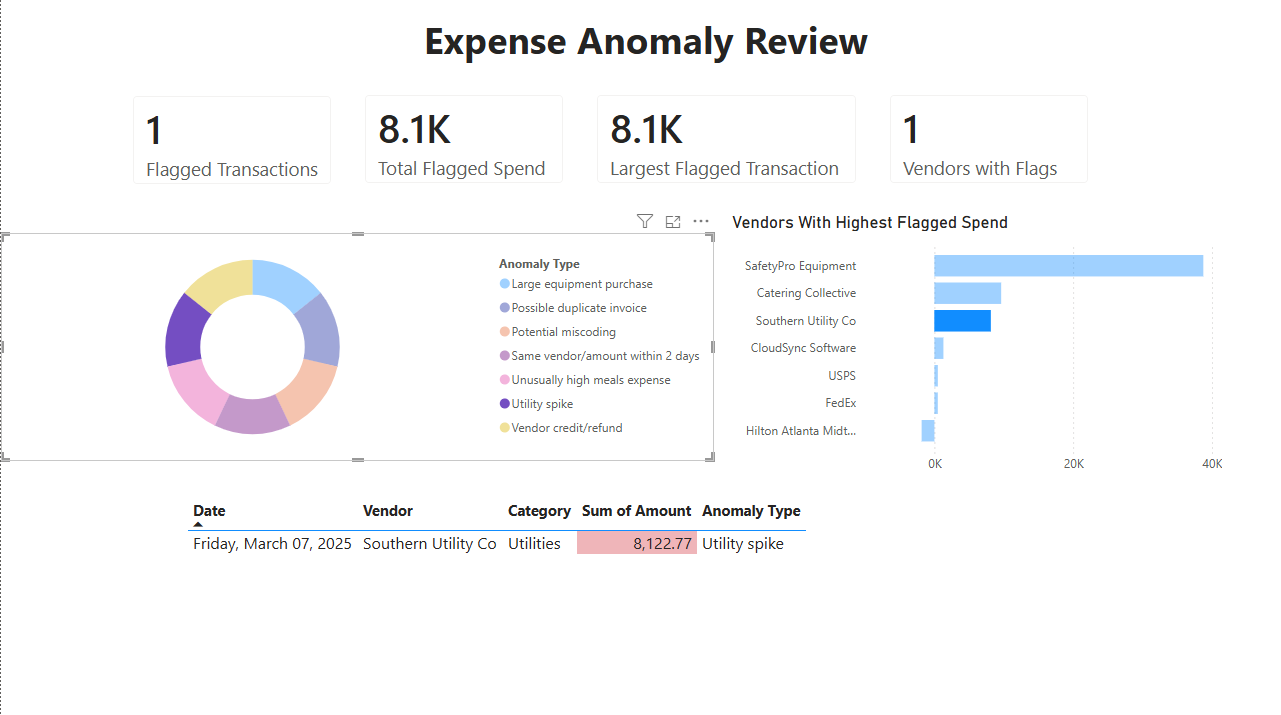

The dashboard page shown, as its layout file describes it:
{"tool":"powerbi","page":{"name":"Page 2","canvas":[1280,720],"ordinal":1},"visuals":[{"type":"textbox","box":[10,0,280,280],"z":0},{"type":"textbox","box":[9.5,9.5,1270.5,70.2],"z":1},{"type":"cardVisual","fields":{"Data":["APTransactionsTable.Flagged Transactions"]},"box":[115.4,79.7,232,122.5],"z":2},{"type":"cardVisual","fields":{"Data":["APTransactionsTable.Total Flagged Spend"]},"box":[347.4,78.5,232,122.5],"z":3},{"type":"cardVisual","fields":{"Data":["APTransactionsTable.Largest Flagged Transaction"]},"box":[579.3,78.5,292.6,122.5],"z":4},{"type":"cardVisual","fields":{"Data":["APTransactionsTable.Vendors with Flags"]},"box":[872,78.5,232,122.5],"z":5},{"type":"donutChart","fields":{"Category":["APTransactionsTable.Anomaly_Type"],"Y":["APTransactionsTable.Flagged Transactions"]},"box":[0,234.3,712.6,227.2],"z":6},{"type":"clusteredBarChart","title":"Vendors With Highest Flagged Spend","fields":{"Category":["APTransactionsTable.Vendor"],"Y":["Sum(APTransactionsTable.Amount)"]},"box":[725.7,212.9,500.8,270],"z":7},{"type":"tableEx","fields":{"Values":["APTransactionsTable.Date","APTransactionsTable.Vendor","APTransactionsTable.Category","Sum(APTransactionsTable.Amount)","APTransactionsTable.Anomaly_Type"]},"box":[180.8,494.9,927.9,214.1],"z":8}]}

Visuals, with their boxes in screenshot pixels (x1, y1, x2, y2), scaled from the page's 1280x720 canvas onto the 1281x715 screenshot:
textbox: rect(10, 0, 290, 278)
textbox: rect(10, 9, 1280, 79)
cardVisual - APTransactionsTable.Flagged Transactions: rect(115, 79, 348, 201)
cardVisual - APTransactionsTable.Total Flagged Spend: rect(348, 78, 580, 200)
cardVisual - APTransactionsTable.Largest Flagged Transaction: rect(580, 78, 873, 200)
cardVisual - APTransactionsTable.Vendors with Flags: rect(873, 78, 1105, 200)
donutChart - APTransactionsTable.Anomaly_Type x APTransactionsTable.Flagged Transactions: rect(0, 233, 713, 458)
"Vendors With Highest Flagged Spend" clusteredBarChart: rect(726, 211, 1227, 480)
tableEx - APTransactionsTable.Date x APTransactionsTable.Vendor: rect(181, 491, 1110, 704)
